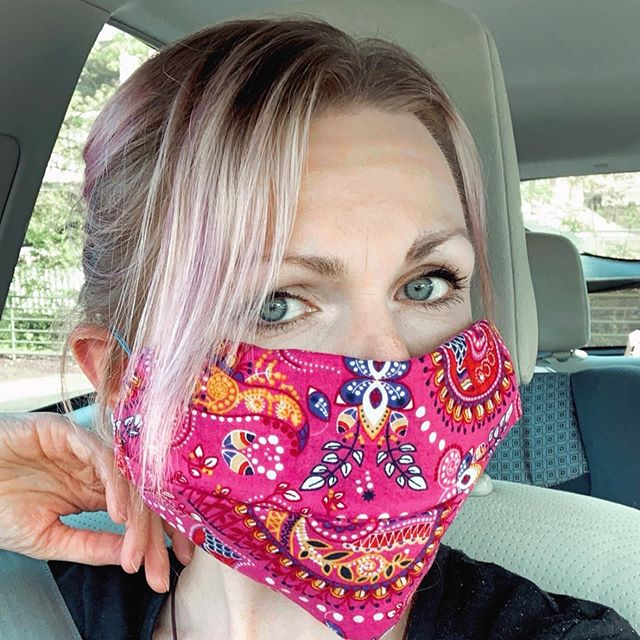homemade: (127, 335, 535, 625)
